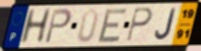0: (76, 8, 101, 45)
E: (96, 7, 130, 44)
H: (18, 8, 54, 46)
J: (154, 7, 178, 42)
P: (43, 8, 73, 45), (125, 7, 154, 44)
